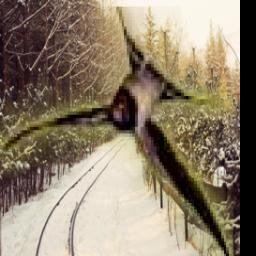Swallow: (1, 8, 234, 256)
